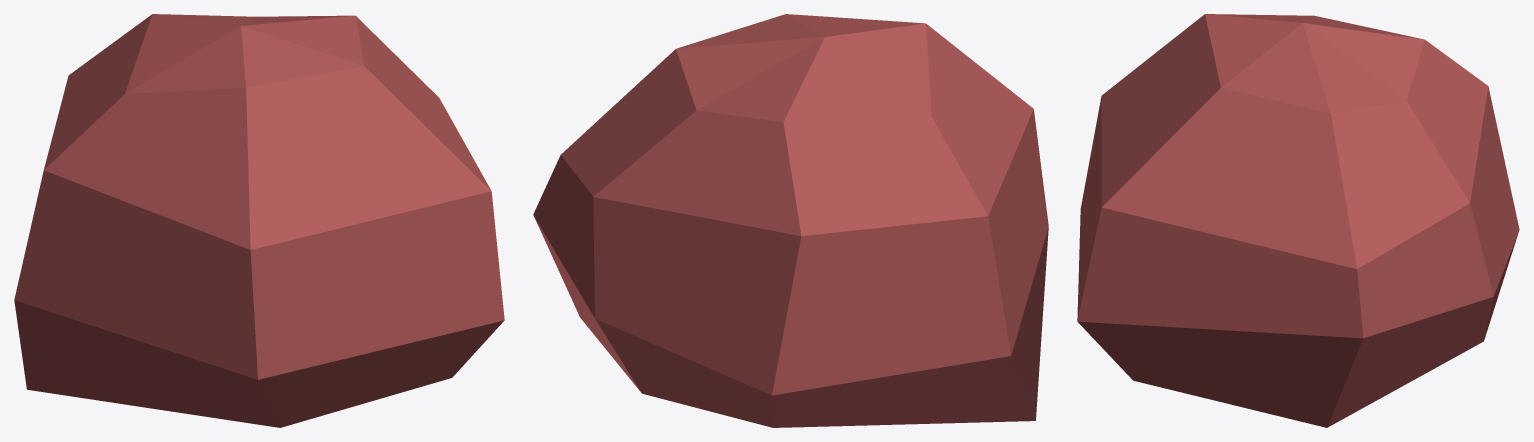
File: stone.fbx
The picture shows the model from 3 angles, left to right: view 1: azimuth 30°, elevation 25°; view 2: azimuth 150°, elevation 25°; view 3: azimuth 270°, elevation 25°; orthographic projection. The views are drawn at different scales.
Visible parts, largest first — view 1: pSphere1; view 2: pSphere1; view 3: pSphere1.
Boxes of the visible parts, box(x1,y1,x2,y2) form: pSphere1: box(14, 14, 504, 427); pSphere1: box(533, 14, 1048, 427); pSphere1: box(1077, 14, 1519, 427).
Size of the model in its own units: 856 by 564 by 750.
